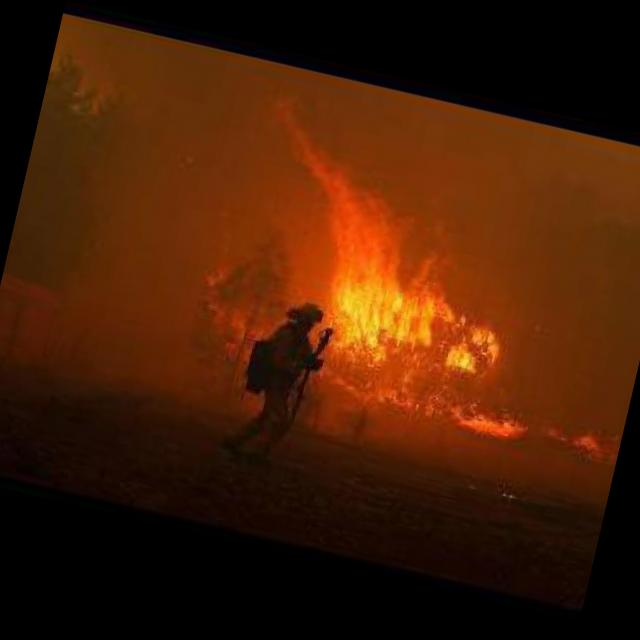fire: (255, 101, 545, 390), (316, 360, 623, 470)
